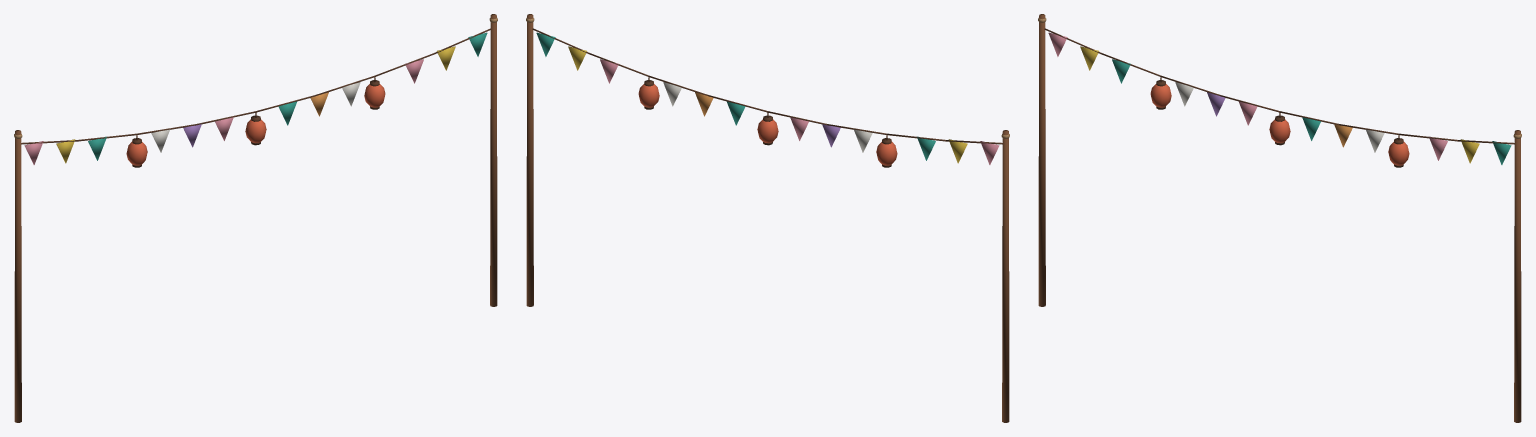
File: bunting_street.glb
The picture shows the model from 3 angles, left to right: view 1: azimuth 30°, elevation 25°; view 2: azimuth 150°, elevation 25°; view 3: azimuth 330°, elevation 25°; orthographic projection.
Parts seen in each view (by area): view 1: bunting_street, bunting_street_glow; view 2: bunting_street, bunting_street_glow; view 3: bunting_street, bunting_street_glow.
Part boxes in pixels (left/top/right/bottom): bunting_street: left=14, top=14, right=497, bottom=422; bunting_street_glow: left=126, top=84, right=385, bottom=165; bunting_street: left=526, top=14, right=1009, bottom=422; bunting_street_glow: left=638, top=84, right=897, bottom=165; bunting_street: left=1038, top=14, right=1521, bottom=422; bunting_street_glow: left=1150, top=84, right=1409, bottom=165.
Size of the model in its own units: 8.73 by 5.01 by 0.34.
